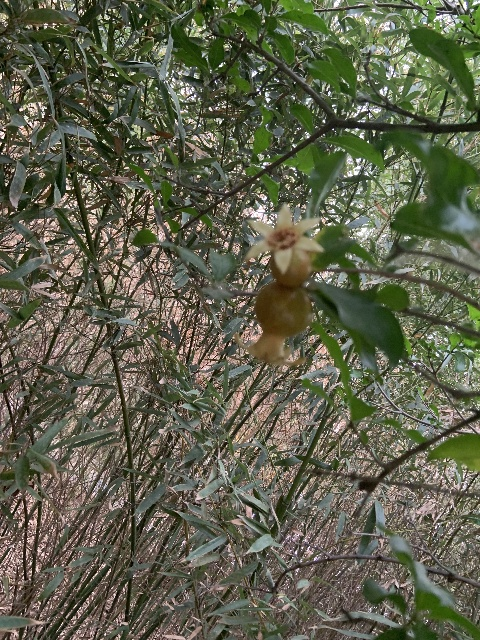early-fruit: (235, 280, 311, 371), (244, 203, 324, 286)
